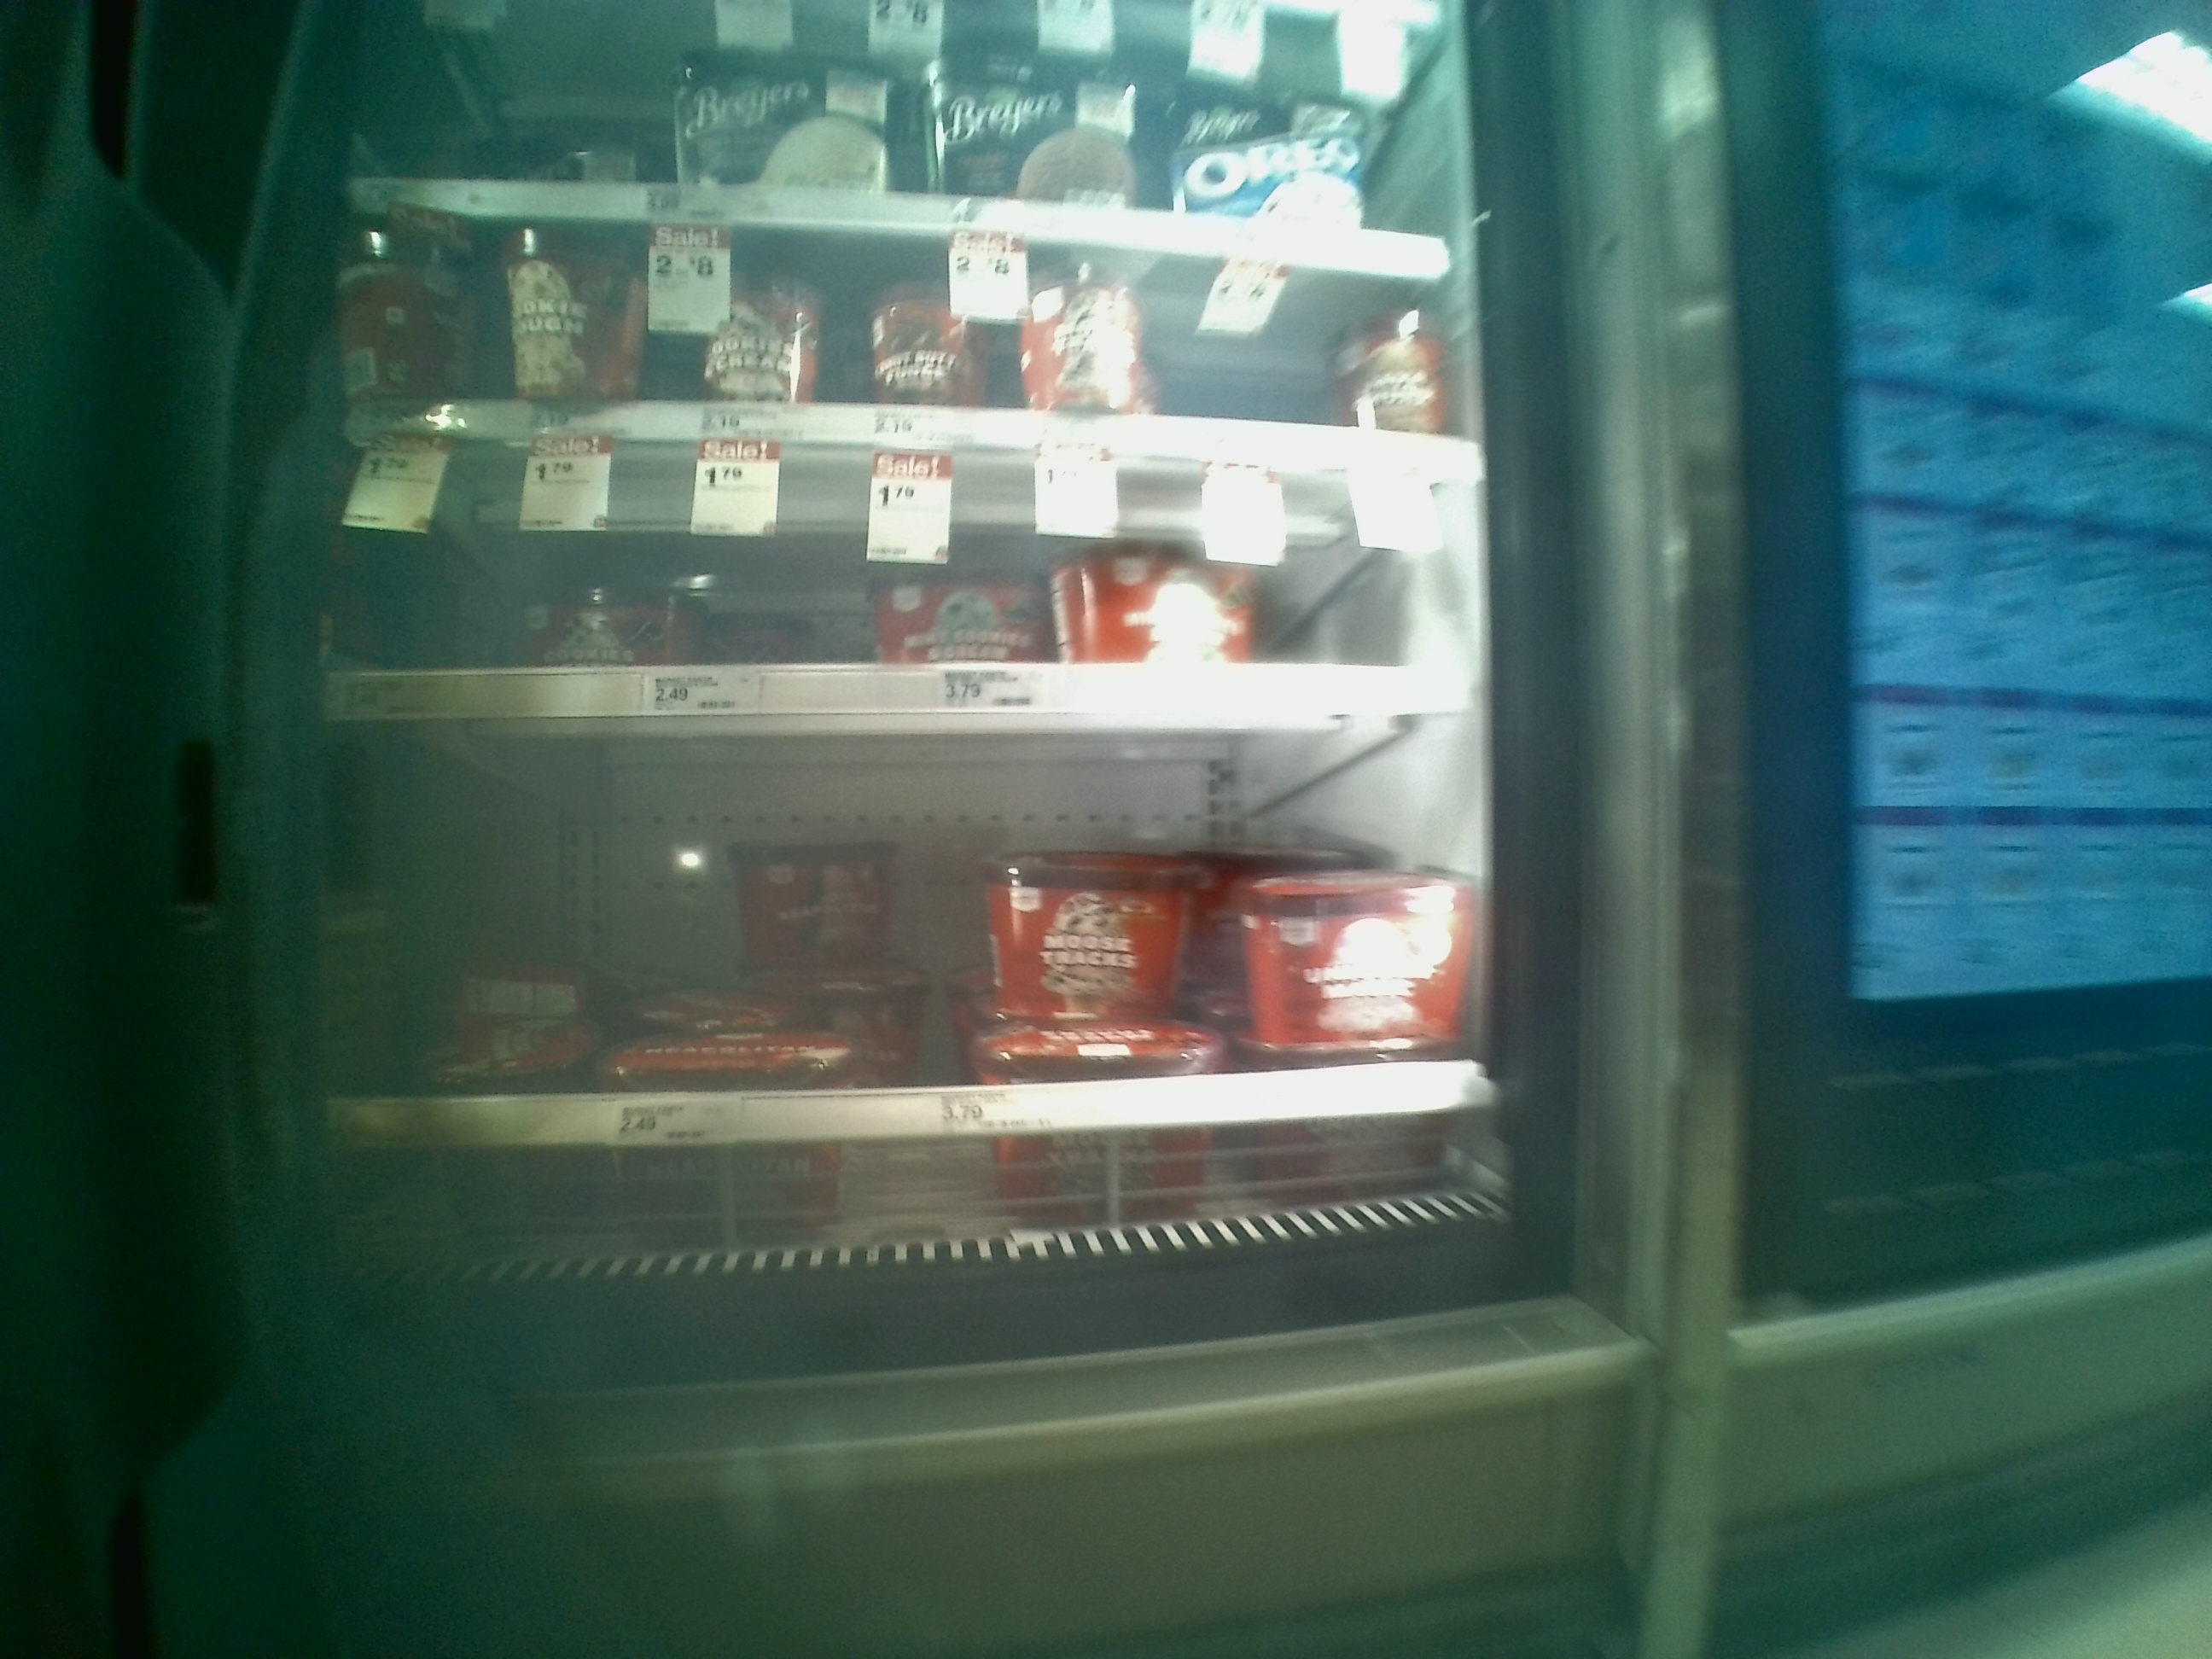shelf: (340, 732, 1486, 1148), (347, 448, 1479, 728), (348, 207, 1491, 446)
